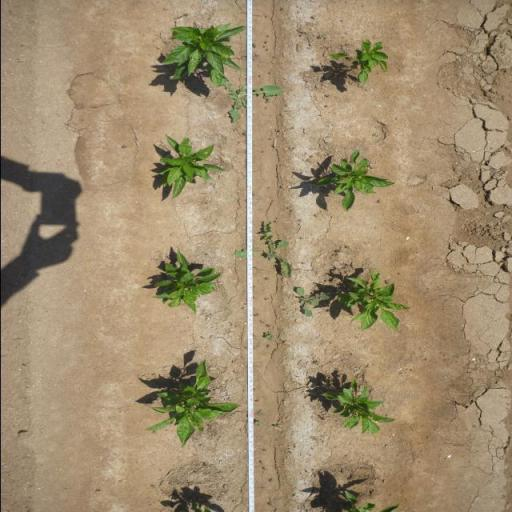plant: (142, 360, 242, 450), (308, 149, 396, 212), (156, 23, 246, 82), (148, 247, 223, 315), (155, 132, 227, 202), (335, 270, 412, 335), (318, 377, 395, 435), (326, 36, 390, 87), (338, 489, 402, 512)
weed: (231, 221, 293, 278), (221, 76, 282, 124), (292, 285, 334, 319), (262, 332, 273, 341), (262, 96, 270, 103), (252, 421, 262, 426), (313, 360, 321, 366), (256, 409, 262, 416), (344, 262, 351, 268), (332, 249, 342, 253), (272, 423, 278, 429), (252, 39, 256, 48), (242, 129, 246, 138), (288, 126, 295, 130), (264, 324, 270, 328), (318, 34, 324, 38), (327, 170, 332, 174), (326, 94, 331, 97), (344, 246, 350, 248), (263, 278, 269, 280), (326, 310, 330, 312), (284, 104, 288, 106), (203, 254, 208, 255)
